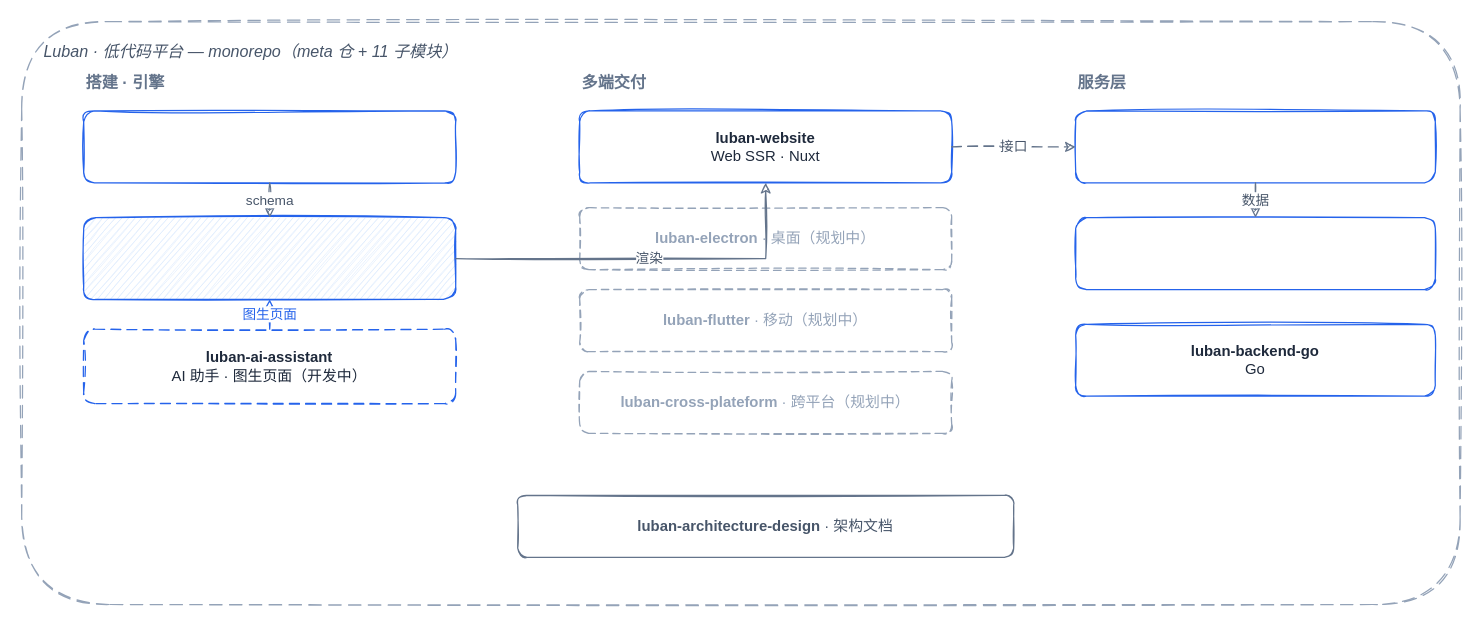
The diagram is 1482 pixels wide and 626 high, and some of its shapes have lost their labels. Here are the shapes that lost their labels. From the top down, the centre of each, then its label:
the point at 269,146: luban-ui 物料库 · Vue3
the point at 1254,146: luban-bff BFF · TypeScript
the point at 269,257: luban 渲染引擎 · TypeScript
the point at 1254,253: luban-backend Java
